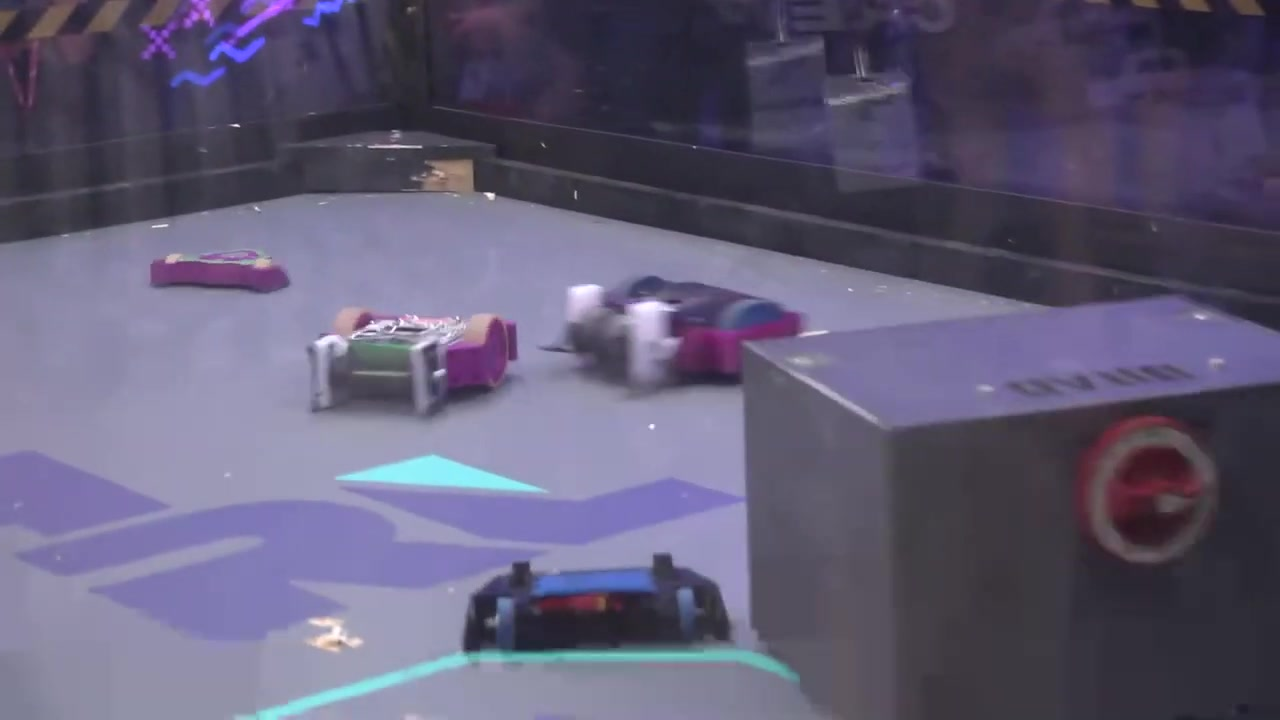combatbot: (538, 273, 805, 392), (461, 549, 730, 656), (308, 309, 521, 422)
housebot: (739, 293, 1280, 720)
minibot: (151, 248, 290, 296)
